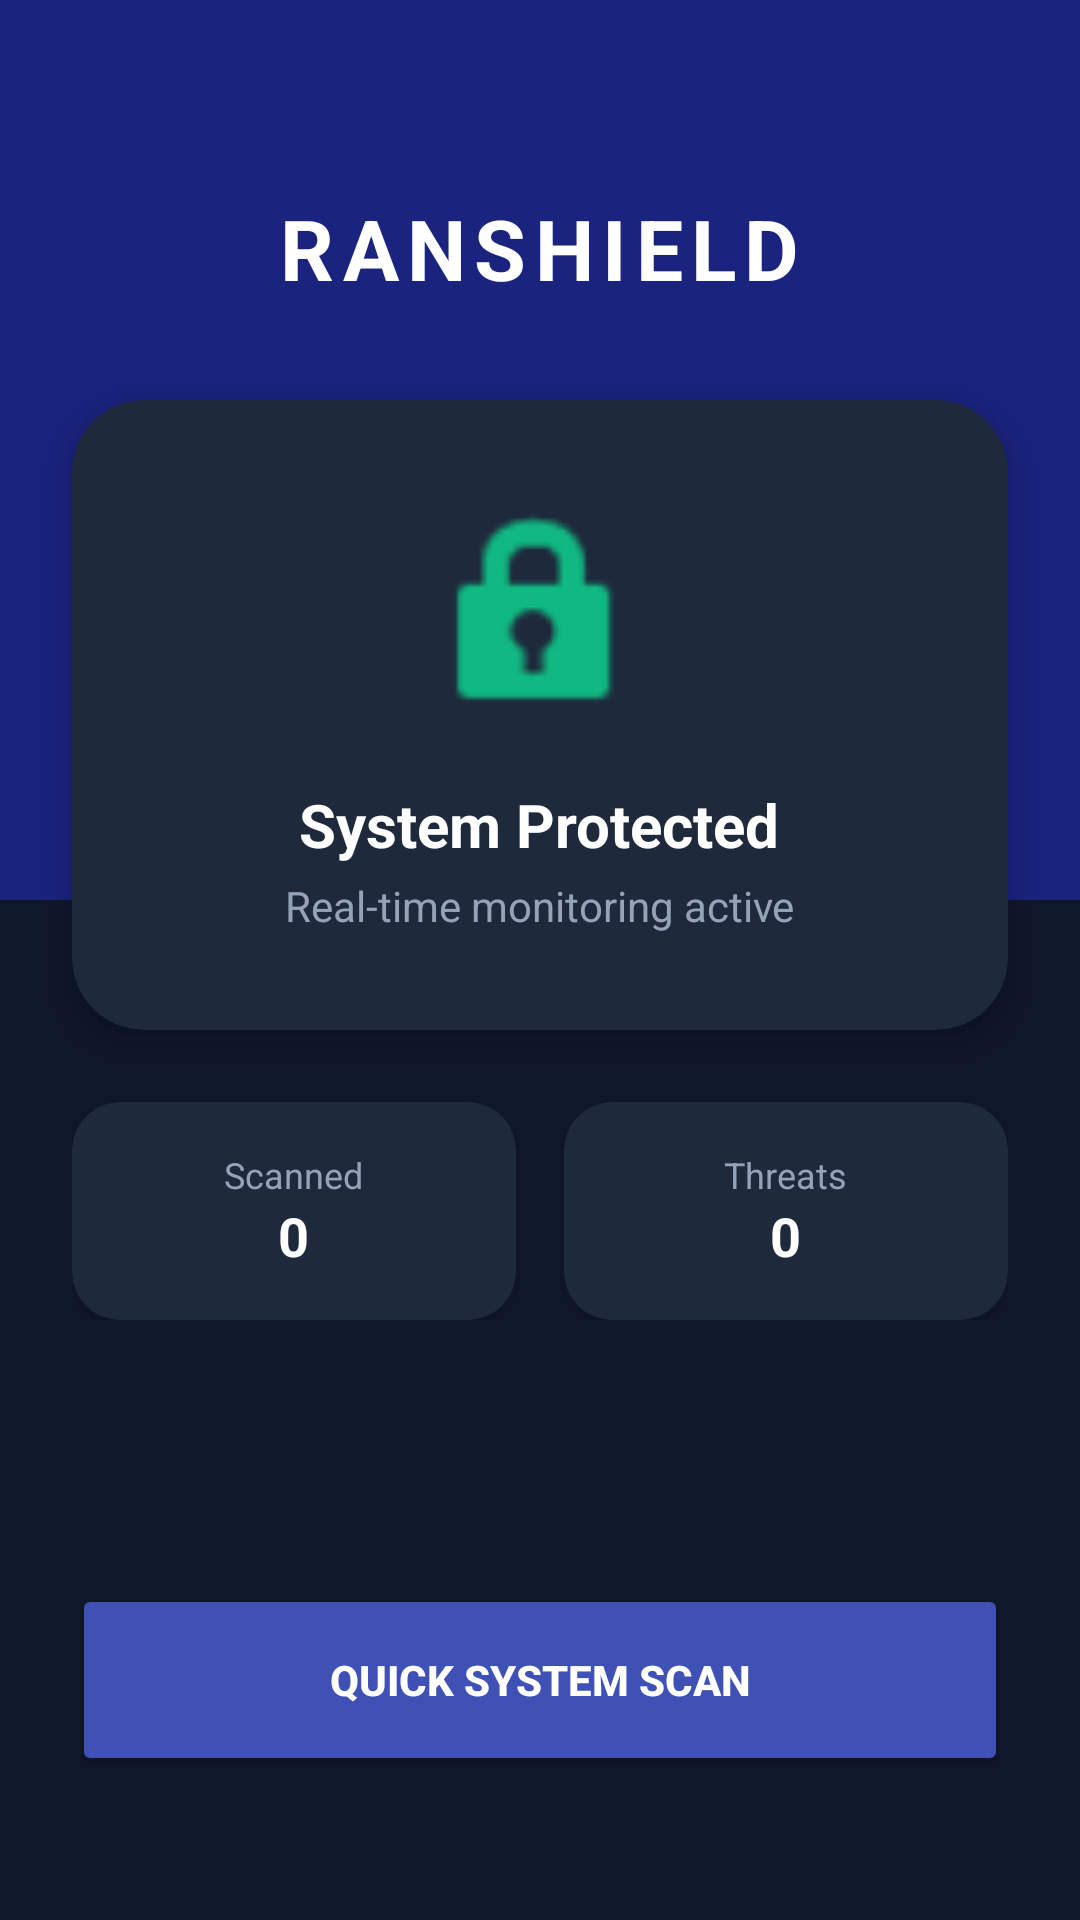

Screen size 1080×1920. Icon name, then its center in pixels as [x,y]:
lock idle: [534,608]
